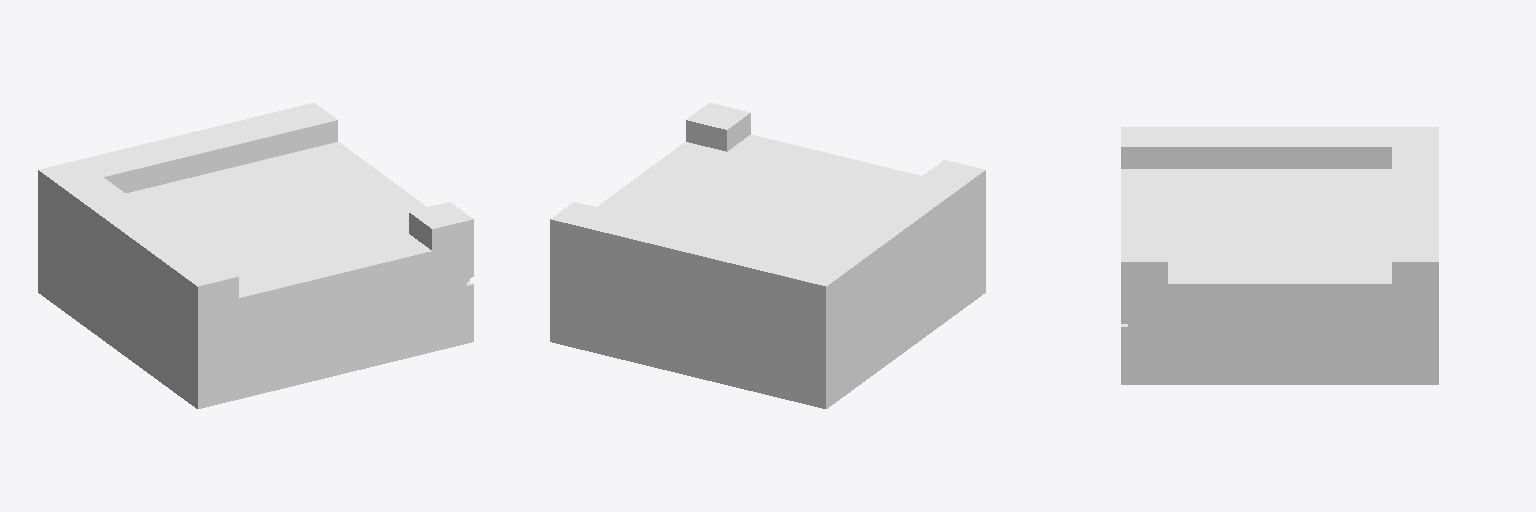
File: wayCurve.obj
The picture shows the model from 3 angles: view 1: azimuth 30°, elevation 25°; view 2: azimuth 150°, elevation 25°; view 3: azimuth 270°, elevation 25°; orthographic projection.
Parts seen in each view (by area): view 1: object 1; view 2: object 1; view 3: object 1.
Boxes of the visible parts, x1,y1,x2,y2 form: object 1: [38, 103, 473, 408]; object 1: [550, 103, 985, 408]; object 1: [1121, 127, 1438, 384].
Size of the model in its own units: 4 by 1.7 by 4.